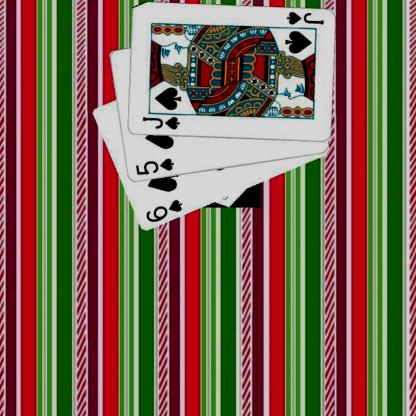5S: (133, 156, 174, 177)
6S: (143, 197, 183, 224)
JS: (140, 115, 180, 131), (284, 10, 324, 26)
